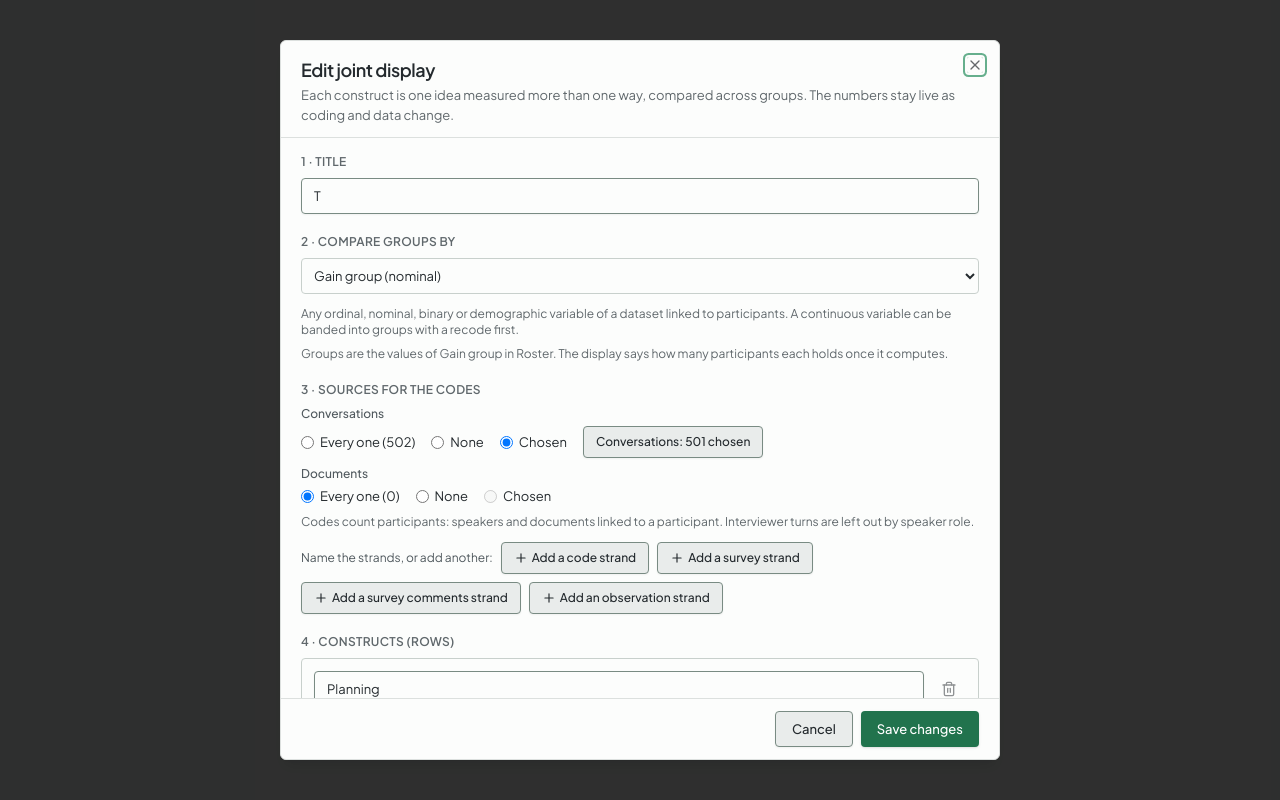
#1644 review — the builder mirrors the server where a person can reach its bound › r3-1: a strand’s chosen sources have no client cap — 501 chosen, the 502nd still offered
What coordinates should you click on to do the following:
click the button with aria-label "Conversations for the display: 501 chosen"
I would click on:
 (673, 442)
Its box is [583,426,763,458].
(page scrolled)
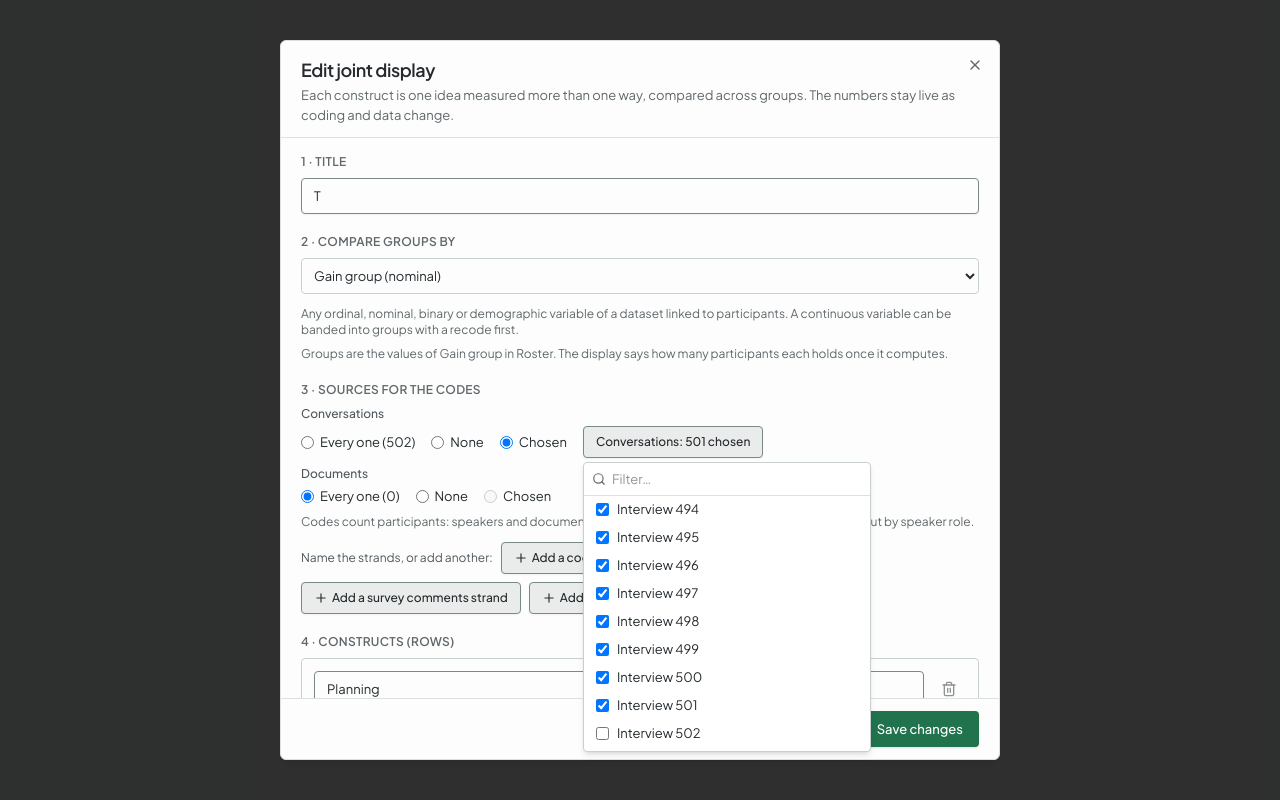
Result: the checkbox labelled "Interview 502" is enabled at [596,726,609,740]
